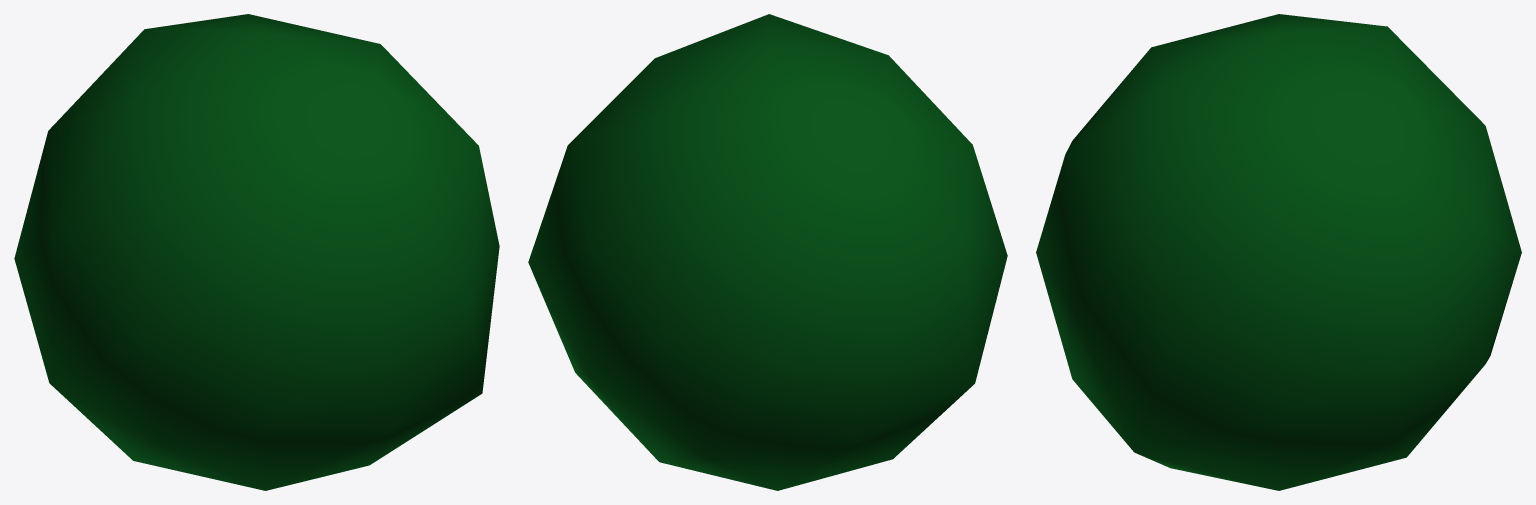
Rendered from BulletBall_Zombie.fbx.
3 views of the same model, side by side, from view 1: azimuth 30°, elevation 25°; view 2: azimuth 150°, elevation 25°; view 3: azimuth 270°, elevation 25° (orthographic). The views are drawn at different scales.
Visible parts, largest first — view 1: Sphere; view 2: Sphere; view 3: Sphere.
Boxes of the visible parts, x1,y1,x2,y2 form: Sphere: (14,14,499,490); Sphere: (528,14,1007,490); Sphere: (1036,14,1521,490).
Bounding box in the file's own units: 0.3337 × 0.3438 × 0.3438.
1 material, 1 textured.
